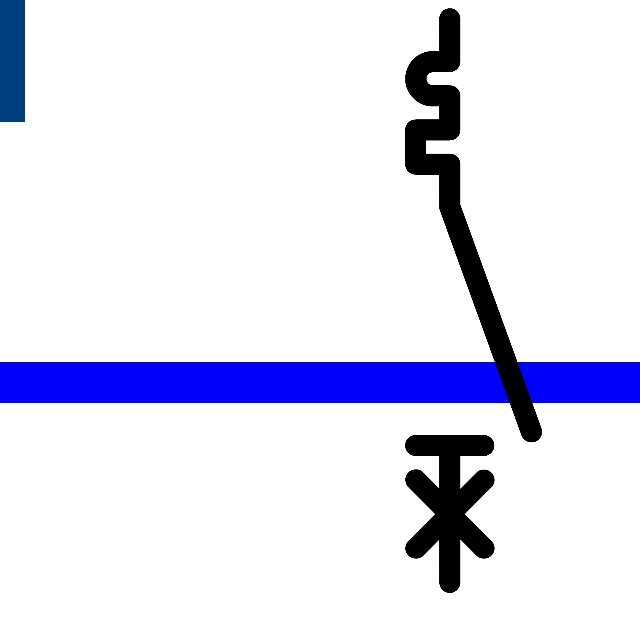interruptor_termomagnetico: (401, 4, 546, 597)
